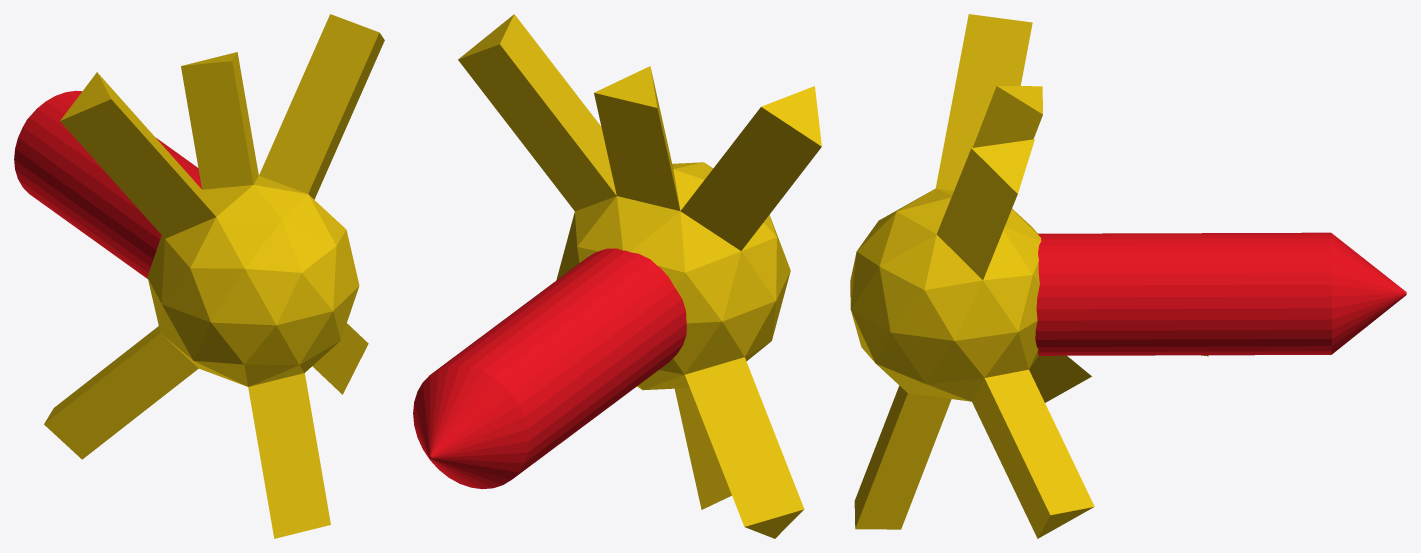
The model's file is rocket.glb.
The picture shows the model from 3 angles, left to right: view 1: azimuth 30°, elevation 25°; view 2: azimuth 150°, elevation 25°; view 3: azimuth 270°, elevation 25°; orthographic projection. The views are drawn at different scales.
Parts seen in each view (by area): view 1: Cylinder; view 2: Cylinder; view 3: Cylinder.
Part boxes in pixels (box(x1,y1,x2,y2)): Cylinder: box(14, 14, 384, 538); Cylinder: box(413, 14, 821, 538); Cylinder: box(850, 14, 1406, 538).
Bounding box in the file's own units: 4.5 × 5.78 × 6.51.
